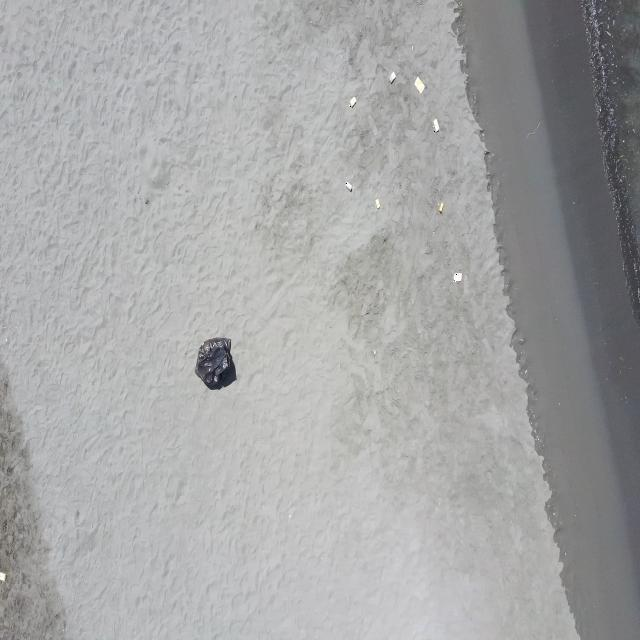Garbage: (195, 337, 235, 387), (413, 76, 424, 92), (452, 272, 462, 281), (432, 119, 439, 131), (344, 180, 351, 191), (436, 201, 443, 212), (388, 72, 395, 83), (348, 97, 355, 107), (375, 198, 380, 207), (0, 572, 4, 580), (372, 350, 375, 355)
